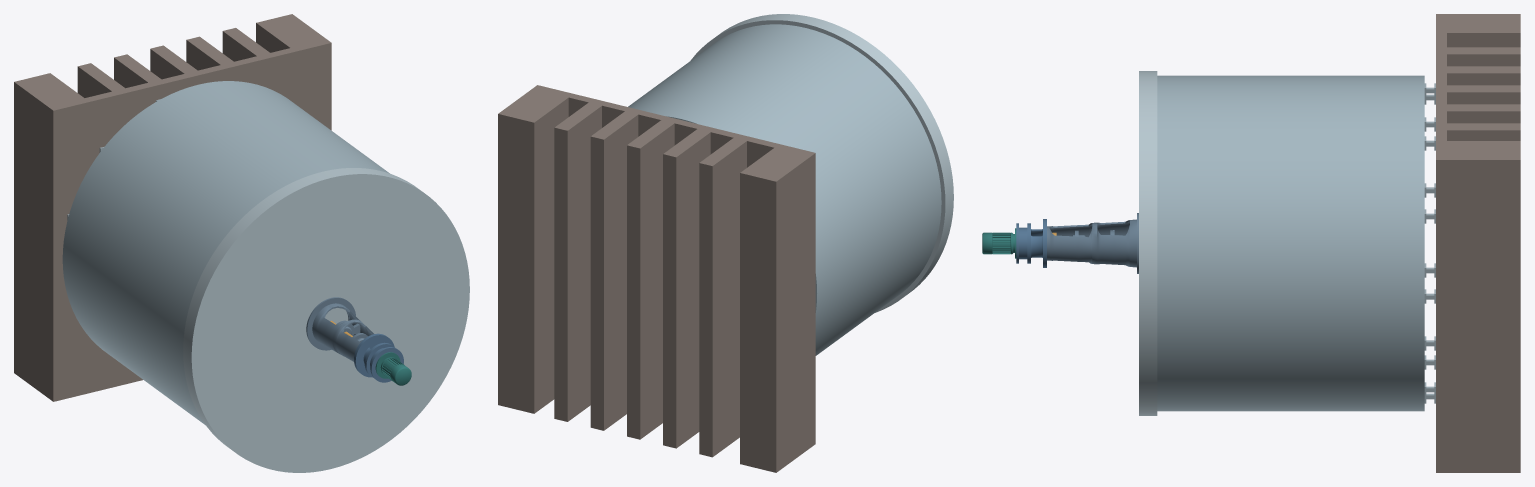
The model's file is D41B02_水解槽.obj.
3 renders of one model, left to right at view 1: azimuth 30°, elevation 25°; view 2: azimuth 150°, elevation 25°; view 3: azimuth 270°, elevation 25°, orthographic. The views are drawn at different scales.
Parts seen in each view (by area): view 1: Tank_cover_lid, Tank_shell, Pad_foundation_cap, Pad_foundation_strip_01, 06_Tapered_window_frame_with_bored_seats, Pad_foundation_strip_07, Pad_foundation_strip_02, Pad_foundation_strip_06, Pad_foundation_strip_05, Pad_foundation_strip_04, Pad_foundation_strip_03, 01_Motor (+2 smaller); view 2: Tank_shell, Pad_foundation_strip_01, Pad_foundation_strip_07, Pad_foundation_strip_02, Pad_foundation_strip_05, Pad_foundation_strip_03, Pad_foundation_strip_06, Pad_foundation_strip_04, Tank_cover_lid, Pad_foundation_cap; view 3: Tank_shell, Pad_foundation_strip_07, Tank_cover_lid, Pad_foundation_cap, 06_Tapered_window_frame_with_bored_seats, Pad_foundation_strip_01, Pad_foundation_strip_02, Pad_foundation_strip_03, Pad_foundation_strip_04, Pad_foundation_strip_05, Pad_foundation_strip_06, 01_Motor.
Boxes of the visible parts, box(x1,y1,x2,y2) form: Tank_cover_lid: box(183, 168, 469, 472); Tank_shell: box(62, 81, 389, 425); Pad_foundation_cap: box(48, 39, 331, 401); Pad_foundation_strip_01: box(14, 73, 84, 397); 06_Tapered_window_frame_with_bored_seats: box(312, 303, 373, 361); Pad_foundation_strip_07: box(256, 14, 326, 52); Pad_foundation_strip_02: box(77, 63, 124, 97); Pad_foundation_strip_06: box(222, 28, 269, 61); Pad_foundation_strip_05: box(186, 36, 233, 70); Pad_foundation_strip_04: box(150, 45, 197, 79); Pad_foundation_strip_03: box(114, 54, 161, 88); 01_Motor: box(375, 352, 411, 385); Tank_shell: box(628, 24, 941, 355); Pad_foundation_strip_01: box(740, 147, 810, 472); Pad_foundation_strip_07: box(498, 88, 568, 413); Pad_foundation_strip_02: box(699, 138, 746, 457); Pad_foundation_strip_05: box(590, 111, 638, 430); Pad_foundation_strip_03: box(663, 129, 710, 448); Pad_foundation_strip_06: box(554, 102, 601, 421); Pad_foundation_strip_04: box(627, 120, 674, 439); Tank_cover_lid: box(690, 14, 953, 312); Pad_foundation_cap: box(533, 85, 815, 447); Tank_shell: box(1157, 75, 1424, 411); Pad_foundation_strip_07: box(1447, 141, 1520, 472); Tank_cover_lid: box(1139, 71, 1157, 415); Pad_foundation_cap: box(1436, 14, 1446, 472); 06_Tapered_window_frame_with_bored_seats: box(1047, 219, 1136, 267); Pad_foundation_strip_01: box(1447, 14, 1520, 47); Pad_foundation_strip_02: box(1447, 47, 1520, 66); Pad_foundation_strip_03: box(1447, 66, 1520, 85); Pad_foundation_strip_04: box(1447, 85, 1520, 104); Pad_foundation_strip_05: box(1447, 104, 1520, 123); Pad_foundation_strip_06: box(1447, 123, 1520, 140); 01_Motor: box(982, 228, 1016, 258).
Size of the model in its own units: 6.07 by 6.07 by 9.47.
